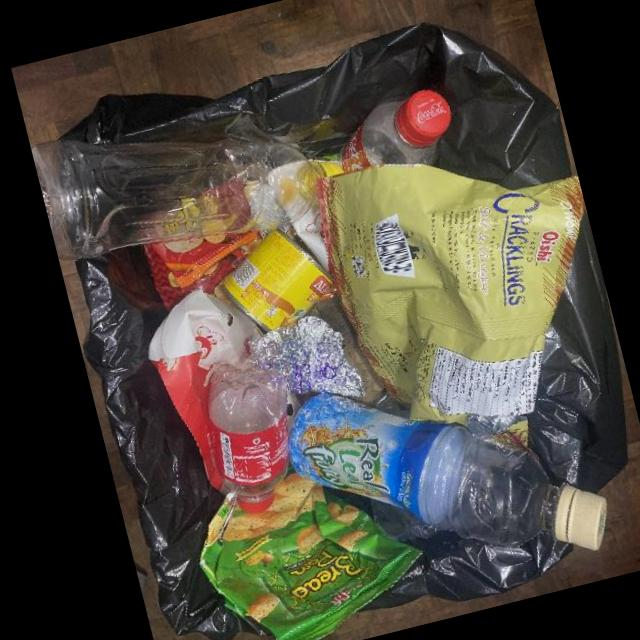bao_bi_thuc_pham: (316, 162, 586, 444), (198, 473, 422, 640), (144, 230, 268, 308)
carton: (148, 288, 263, 501)
chai_nhua_pet: (289, 392, 607, 551), (33, 137, 347, 261), (205, 364, 288, 514), (337, 88, 453, 171)
nhom: (220, 227, 333, 328), (248, 316, 364, 397)
